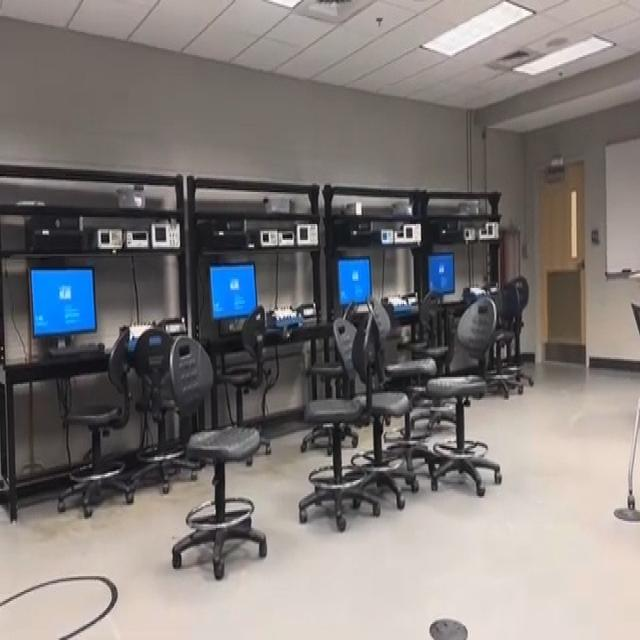drone: (276, 308, 301, 358)
